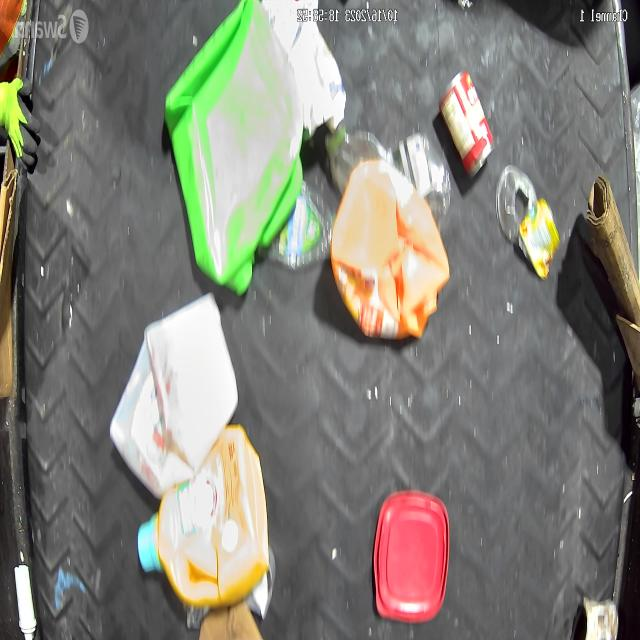can: (437, 69, 495, 176), (518, 196, 560, 278), (496, 162, 536, 245), (571, 595, 620, 640), (248, 546, 276, 620)
milk_jug: (110, 292, 238, 500)
non_white_jug: (164, 0, 303, 297), (137, 424, 270, 608), (330, 156, 450, 342)
plastic_bottle: (258, 180, 332, 272), (324, 124, 390, 194)
